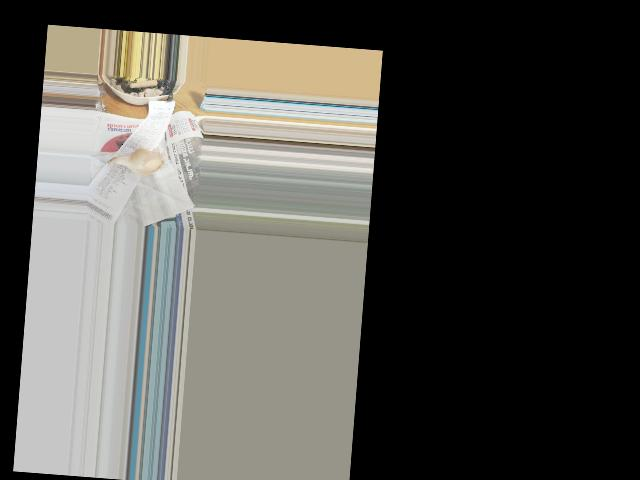onion: (120, 149, 163, 175)
